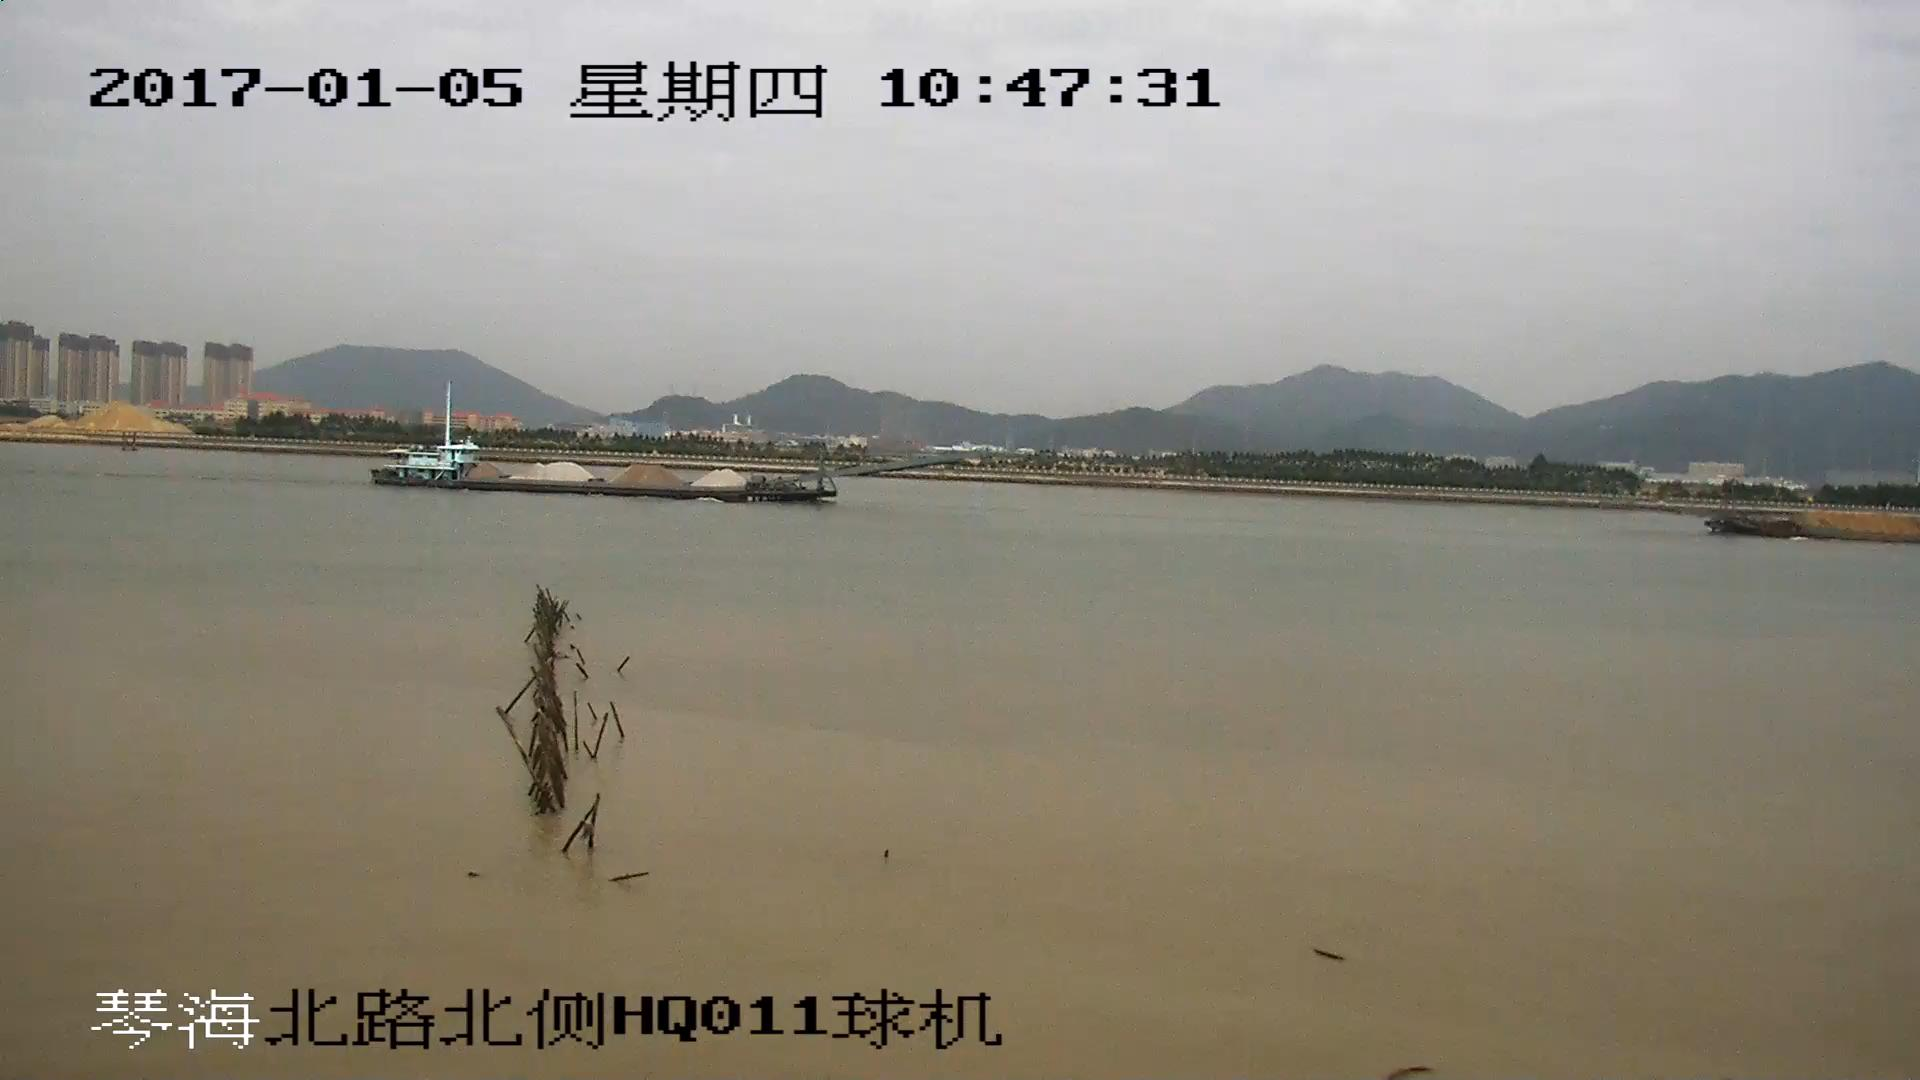ore carrier: (364, 384, 972, 506), (1712, 500, 1920, 540)
